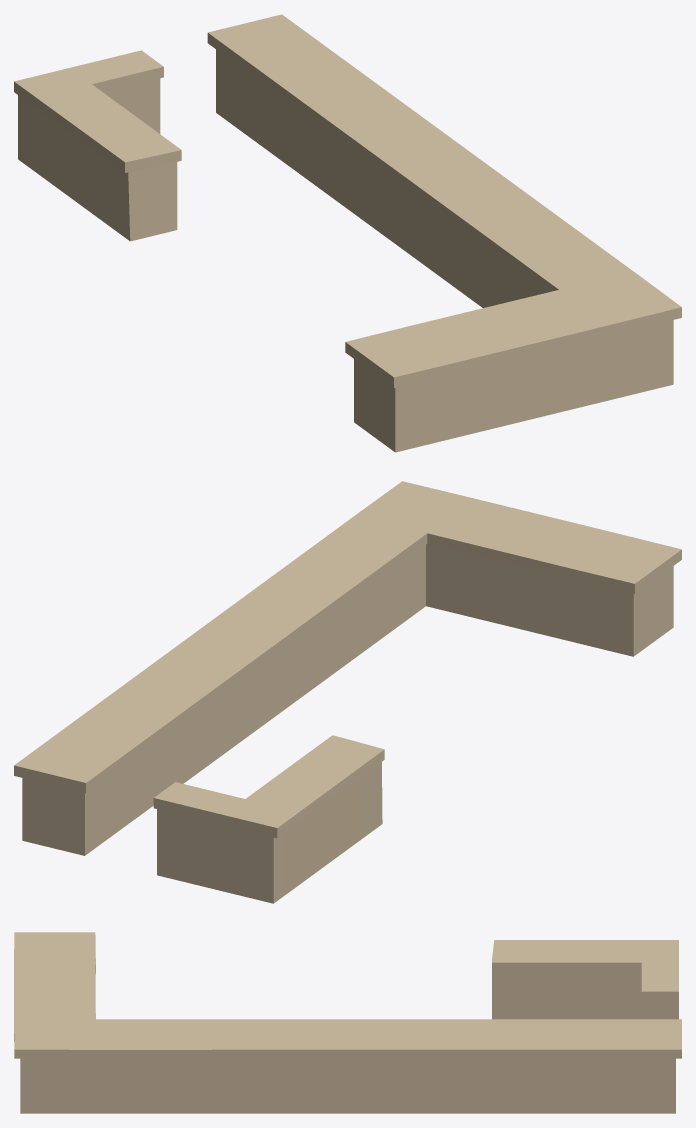
The model's file is Countertops.fbx.
3 renders of one model, top to bottom at view 1: azimuth 30°, elevation 25°; view 2: azimuth 150°, elevation 25°; view 3: azimuth 270°, elevation 25°, orthographic. The views are drawn at different scales.
Parts seen in each view (by area): view 1: Countertops; view 2: Countertops; view 3: Countertops.
Boxes of the visible parts, box(x1,y1,x2,y2) form: Countertops: box(14, 14, 681, 452); Countertops: box(14, 481, 681, 903); Countertops: box(14, 932, 681, 1113).
Size of the model in its own units: 7.47 by 1.95 by 17.96.
